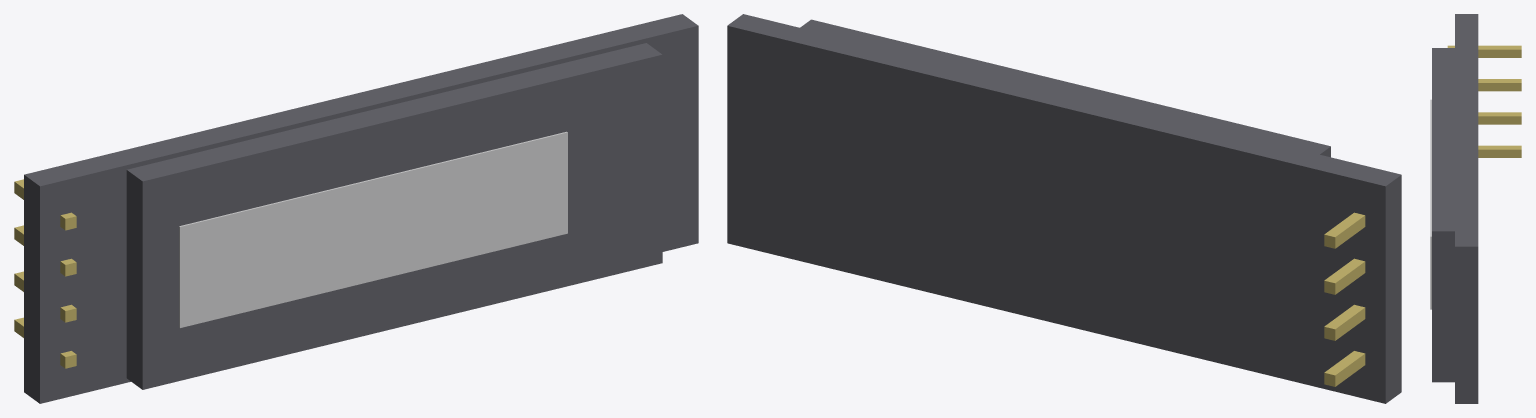
3 views of the same model, side by side, from view 1: azimuth 30°, elevation 25°; view 2: azimuth 150°, elevation 25°; view 3: azimuth 270°, elevation 25° (orthographic). The views are drawn at different scales.
Parts seen in each view (by area): view 1: extra, housing, pins; view 2: extra, pins; view 3: extra, pins, housing.
Part boxes in pixels (box(x1,y1,x2,y2)): extra: box(24, 14, 698, 403); housing: box(179, 131, 567, 327); pins: box(14, 179, 76, 368); extra: box(727, 14, 1401, 403); pins: box(1324, 212, 1365, 386); extra: box(1432, 14, 1478, 403); pins: box(1447, 45, 1521, 157); housing: box(1430, 99, 1431, 309).
Bounding box in the file's own units: 38 × 12 × 6.3.
